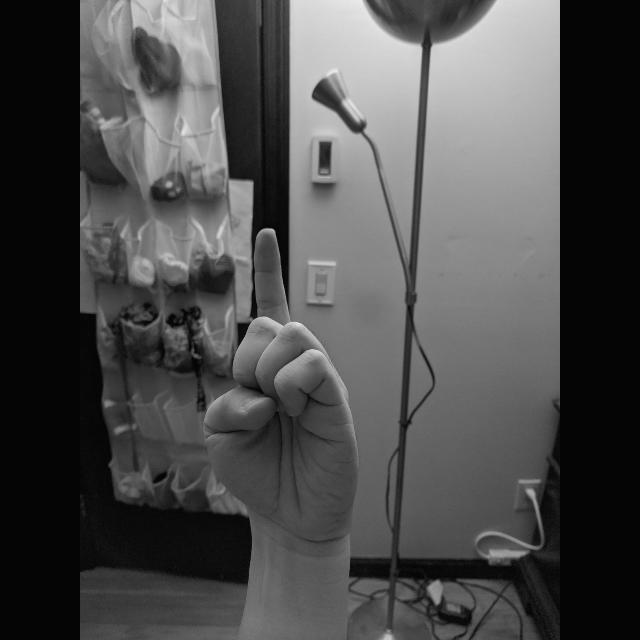D: (198, 224, 366, 554)
